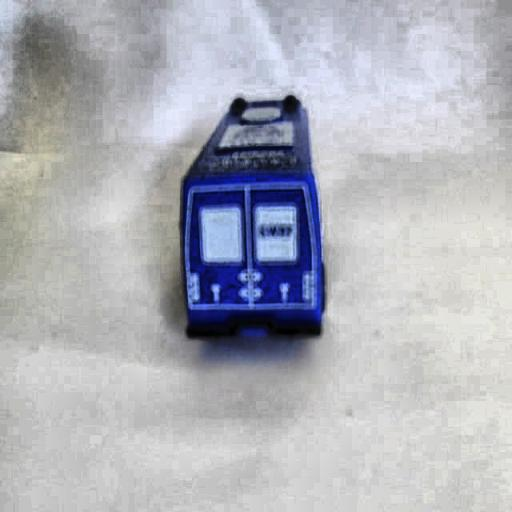police car: (180, 87, 328, 354)
